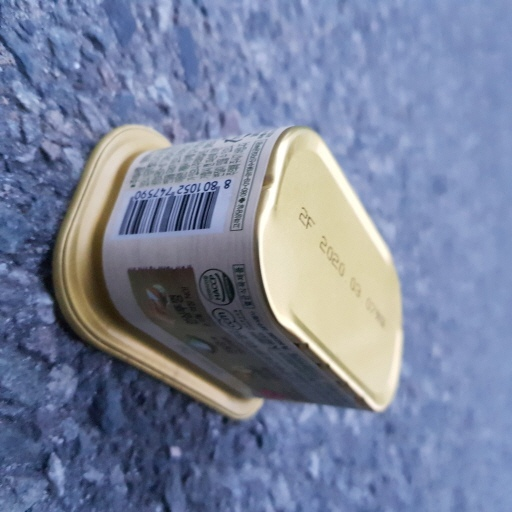Metal_2: (52, 120, 408, 426)
